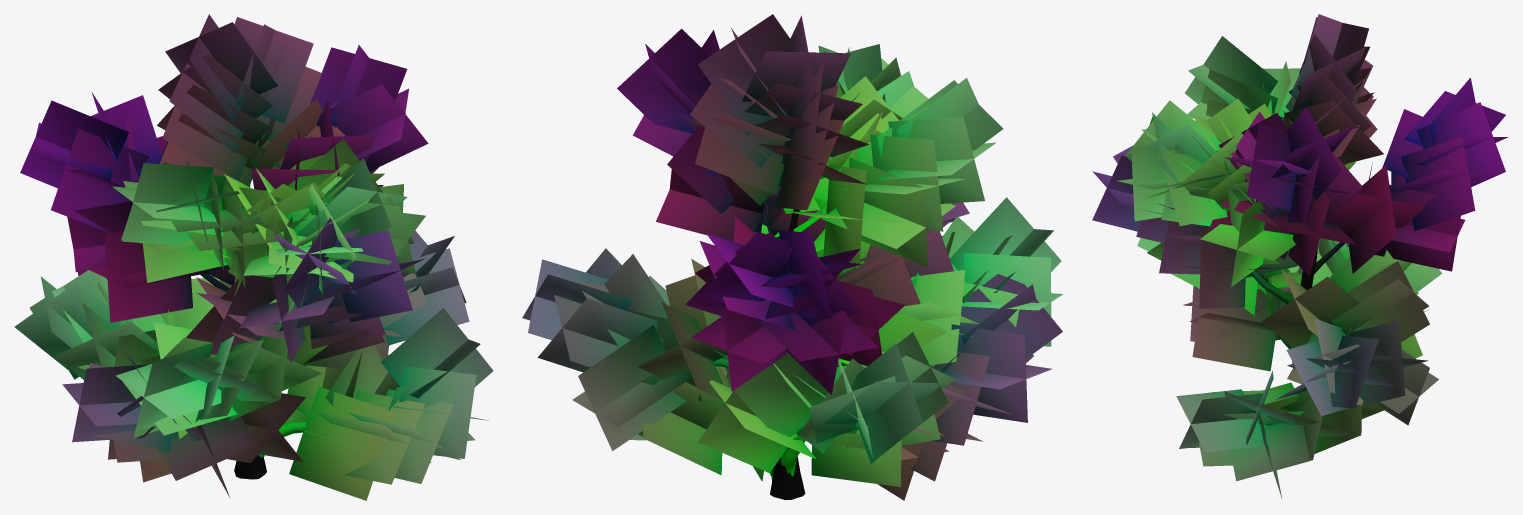
File: M_P11_Tree_4.fbx
The picture shows the model from 3 angles, left to right: view 1: azimuth 30°, elevation 25°; view 2: azimuth 150°, elevation 25°; view 3: azimuth 270°, elevation 25°; orthographic projection. The views are drawn at different scales.
Parts seen in each view (by area): view 1: Tree_4; view 2: Tree_4; view 3: Tree_4.
Part boxes in pixels (bbox=[...]): Tree_4: bbox=[14, 14, 493, 500]; Tree_4: bbox=[522, 14, 1063, 500]; Tree_4: bbox=[1092, 14, 1508, 499].
Bounding box in the file's own units: 599 × 618 × 571.
